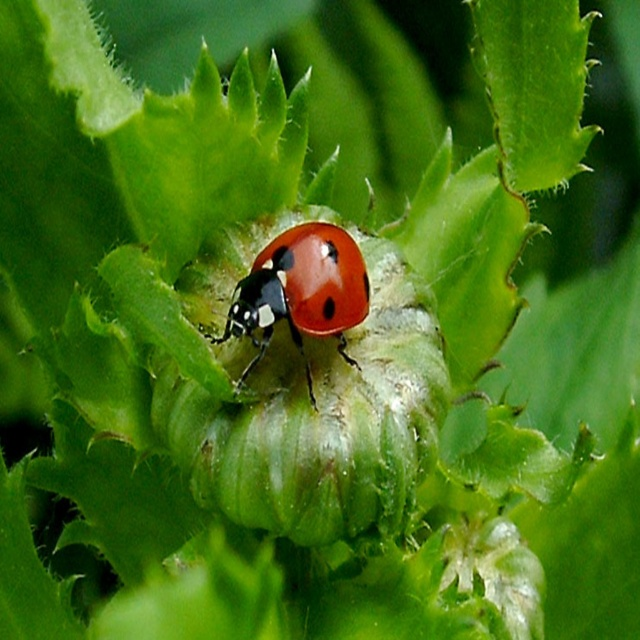Ladybug: (202, 221, 371, 414)
